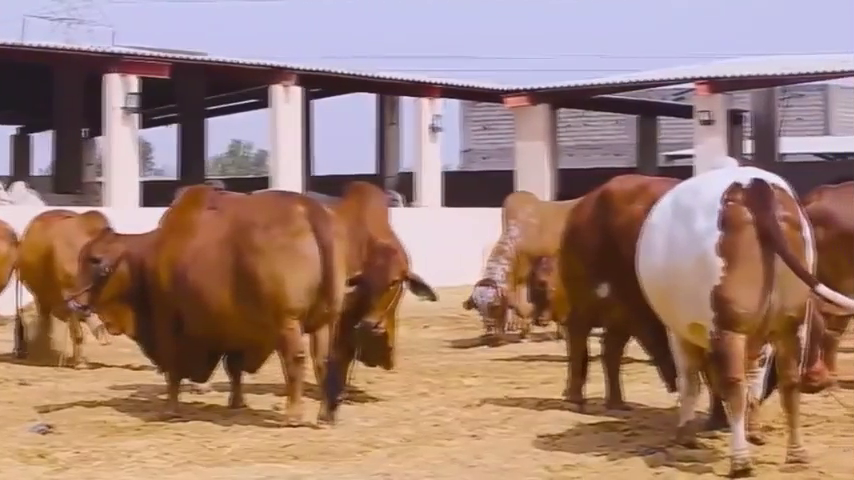bo: (61, 177, 349, 438), (636, 154, 813, 479), (538, 152, 672, 421), (316, 174, 443, 388), (459, 172, 565, 346), (15, 207, 113, 379), (795, 171, 854, 394), (517, 236, 569, 340)
